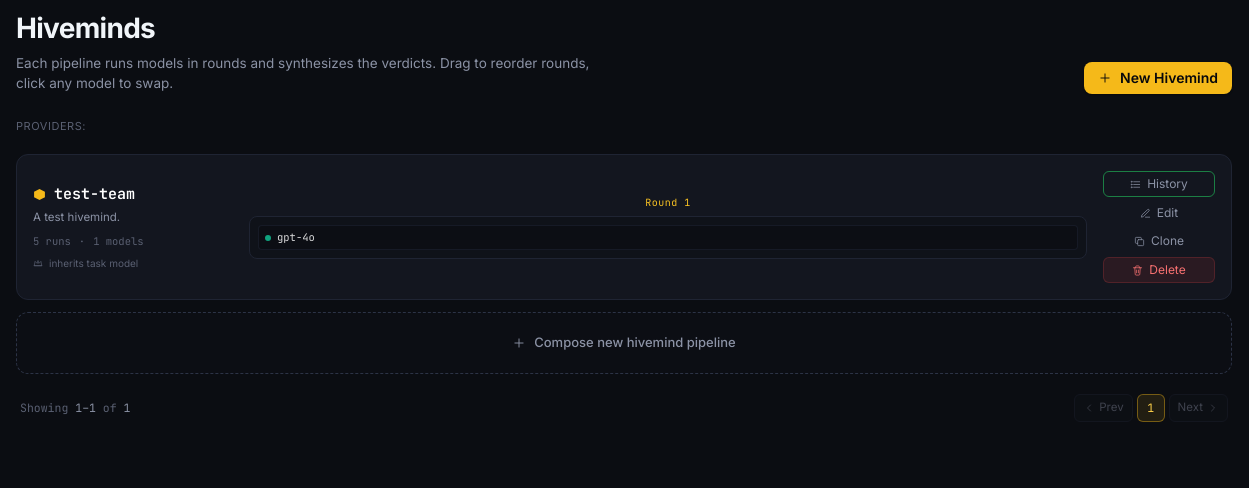
HivemindsScreen › shows a refresh error when clone succeeds but list reload fails
The width and height of the screenshot is (1249, 488).
Expected: the heading "test-team" is shown, top-left (54, 184), bottom-right (135, 206)
Click the button "Clone": (1159, 241) top-left (1103, 229), bottom-right (1215, 253)
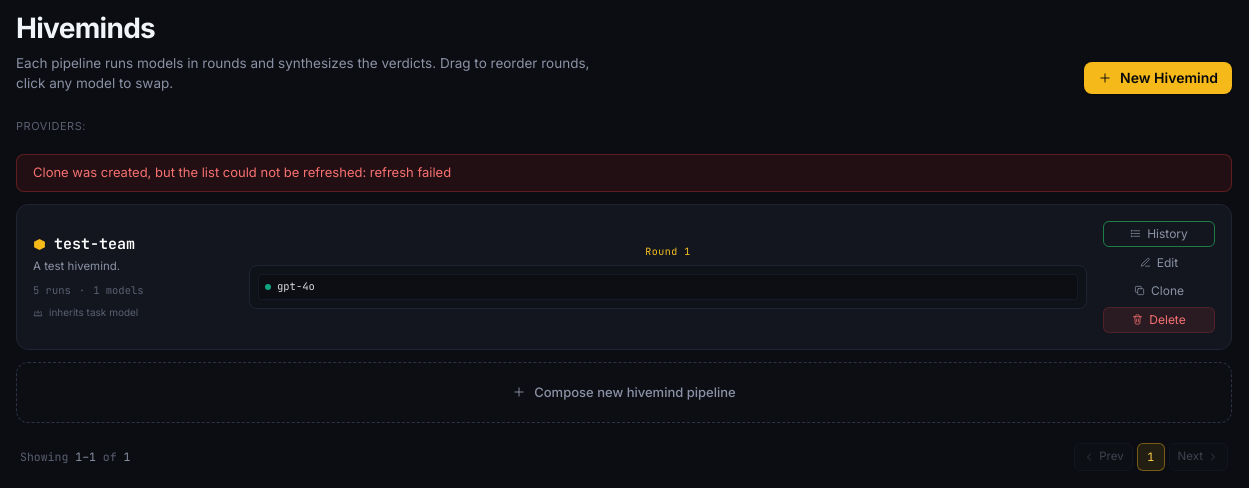
Now the text "Clone was created, but the list could not be refreshed: refresh failed" is shown, box top-left (16, 154), bottom-right (1232, 192)
